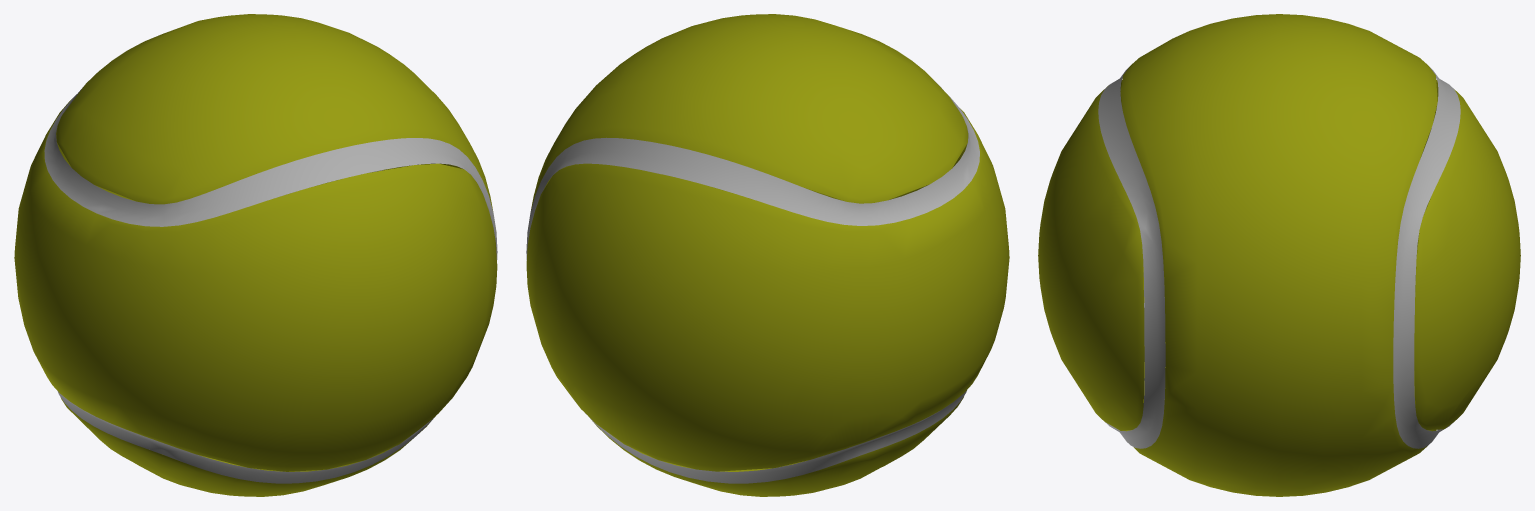
Rendered from Tennis-optimized.glb.
3 renders of one model, left to right at view 1: azimuth 30°, elevation 25°; view 2: azimuth 150°, elevation 25°; view 3: azimuth 270°, elevation 25°, orthographic.
Visible parts, largest first — view 1: Tennis; view 2: Tennis; view 3: Tennis.
Part boxes in pixels (bbox=[...]): Tennis: bbox=[14, 14, 497, 496]; Tennis: bbox=[526, 14, 1009, 496]; Tennis: bbox=[1038, 14, 1520, 496].
Bounding box in the file's own units: 1.98 × 1.98 × 1.98.
